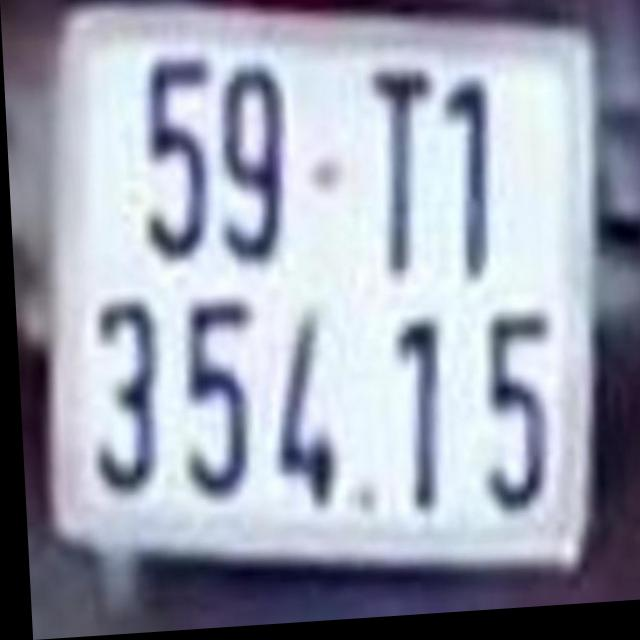1: (441, 76, 489, 284), (393, 316, 439, 517)
3: (89, 297, 155, 493)
4: (271, 308, 335, 515)
5: (470, 314, 551, 517), (142, 59, 213, 261), (182, 299, 248, 495)
9: (214, 65, 283, 263)
T: (368, 69, 434, 287)
